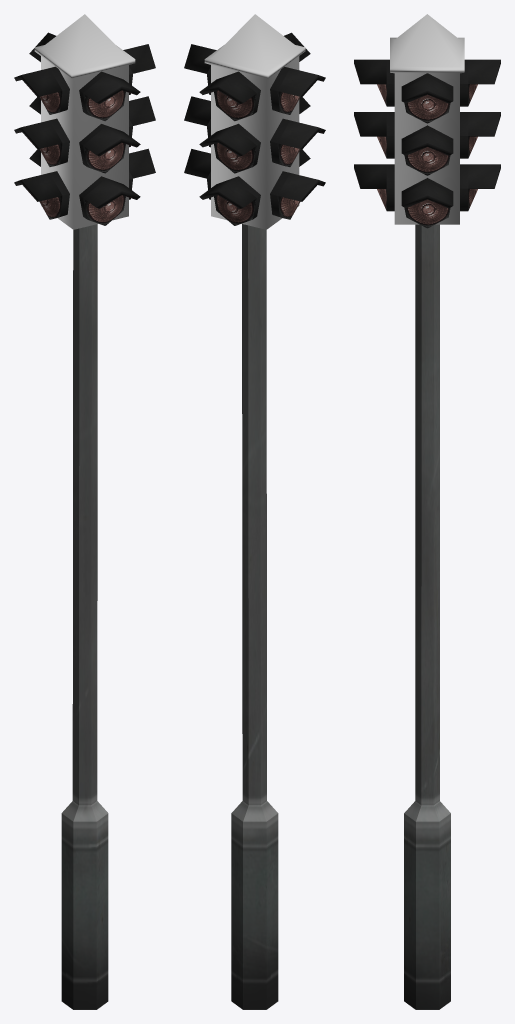
Rendered from PFB-Racing-Track-Assets-01-Traffic-Light-Large.fbx.
3 renders of one model, left to right at view 1: azimuth 30°, elevation 25°; view 2: azimuth 150°, elevation 25°; view 3: azimuth 270°, elevation 25°, orthographic.
Parts seen in each view (by area): view 1: traffic_light_L_pole, traffic_light_L_lights; view 2: traffic_light_L_pole, traffic_light_L_lights; view 3: traffic_light_L_pole, traffic_light_L_lights.
Part boxes in pixels (x1,y1,x2,y2): traffic_light_L_pole: [61, 224, 108, 1009]; traffic_light_L_lights: [14, 14, 155, 229]; traffic_light_L_pole: [231, 224, 278, 1009]; traffic_light_L_lights: [184, 14, 325, 229]; traffic_light_L_pole: [404, 224, 450, 1009]; traffic_light_L_lights: [354, 14, 500, 228].
Size of the model in its own units: 11.25 by 83.38 by 11.25.
